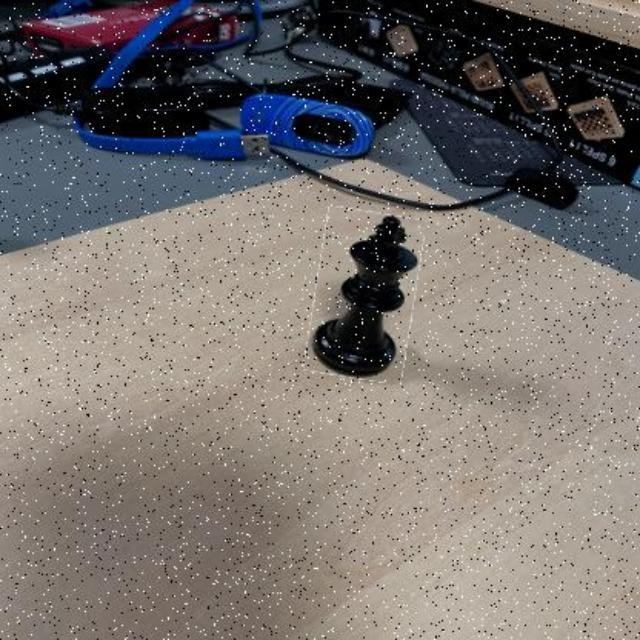black-king: (310, 209, 420, 381)
